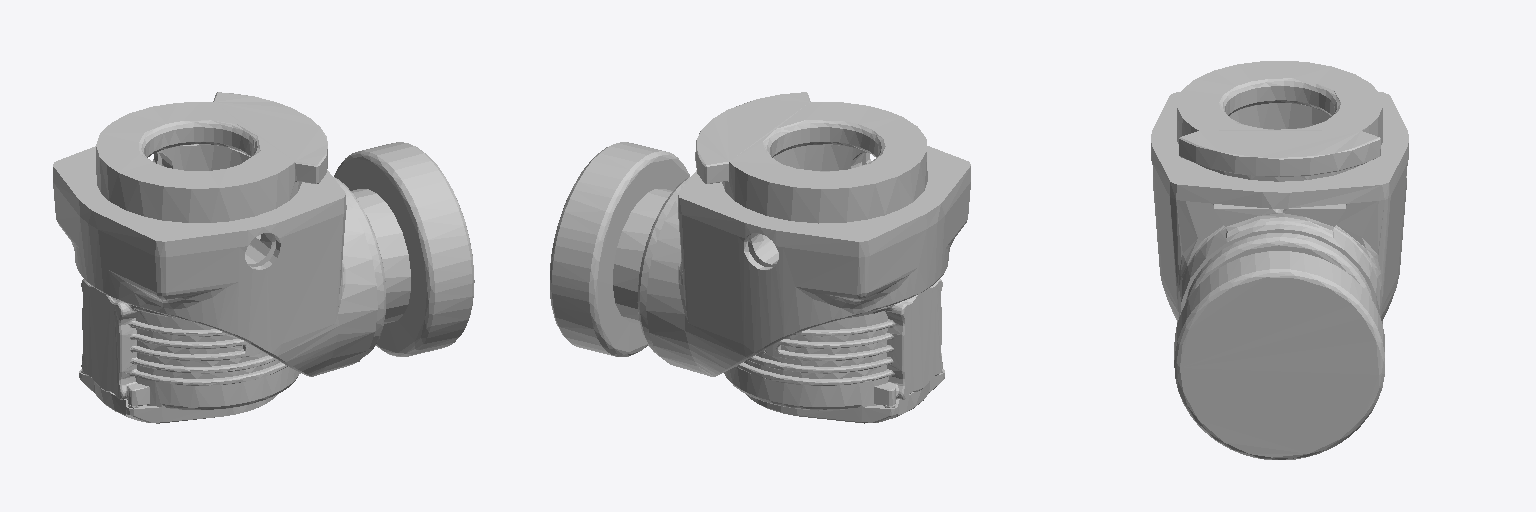
Rendered from rear_left_hip.obj.
The picture shows the model from 3 angles: view 1: azimuth 30°, elevation 25°; view 2: azimuth 150°, elevation 25°; view 3: azimuth 270°, elevation 25°; orthographic projection.
Visible parts, largest first — view 1: rear_left_hip_02-042137-001-A00_TOP_LEVEL_DEFEATURED_-_NOT_FOR_P; view 2: rear_left_hip_02-042137-001-A00_TOP_LEVEL_DEFEATURED_-_NOT_FOR_P; view 3: rear_left_hip_02-042137-001-A00_TOP_LEVEL_DEFEATURED_-_NOT_FOR_P.
Part boxes in pixels (x1,y1,x2,y2): rear_left_hip_02-042137-001-A00_TOP_LEVEL_DEFEATURED_-_NOT_FOR_P: (53,92,474,423); rear_left_hip_02-042137-001-A00_TOP_LEVEL_DEFEATURED_-_NOT_FOR_P: (550,92,970,423); rear_left_hip_02-042137-001-A00_TOP_LEVEL_DEFEATURED_-_NOT_FOR_P: (1151,61,1408,459).
Bounding box in the file's own units: 0.1417 × 0.1001 × 0.0941.